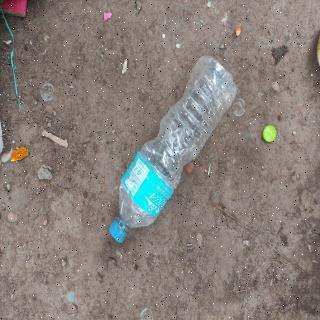Plastic-bottle: (108, 54, 240, 247)
